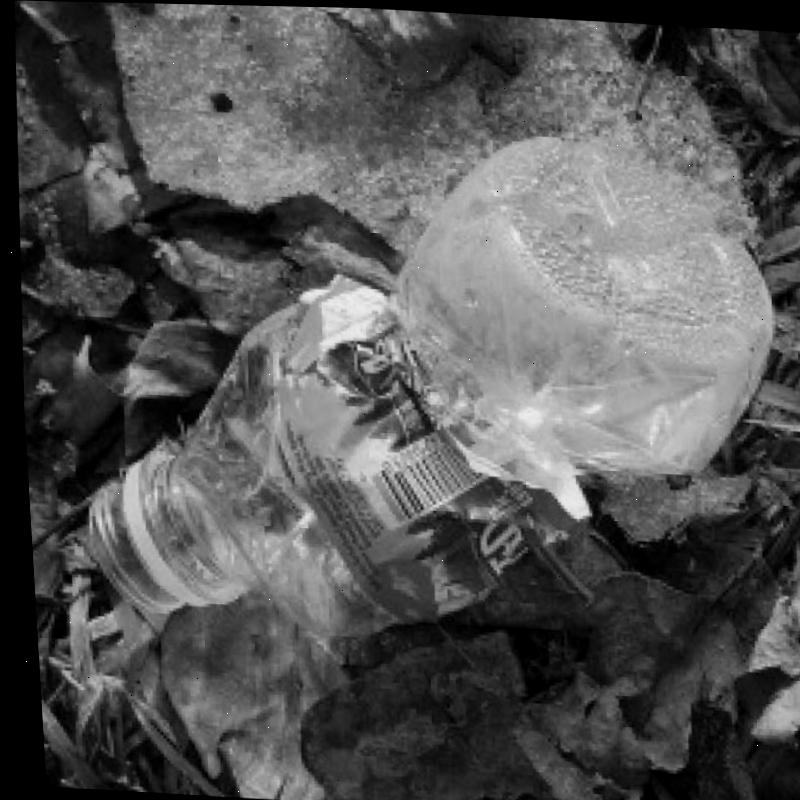botella: (55, 108, 797, 663)
